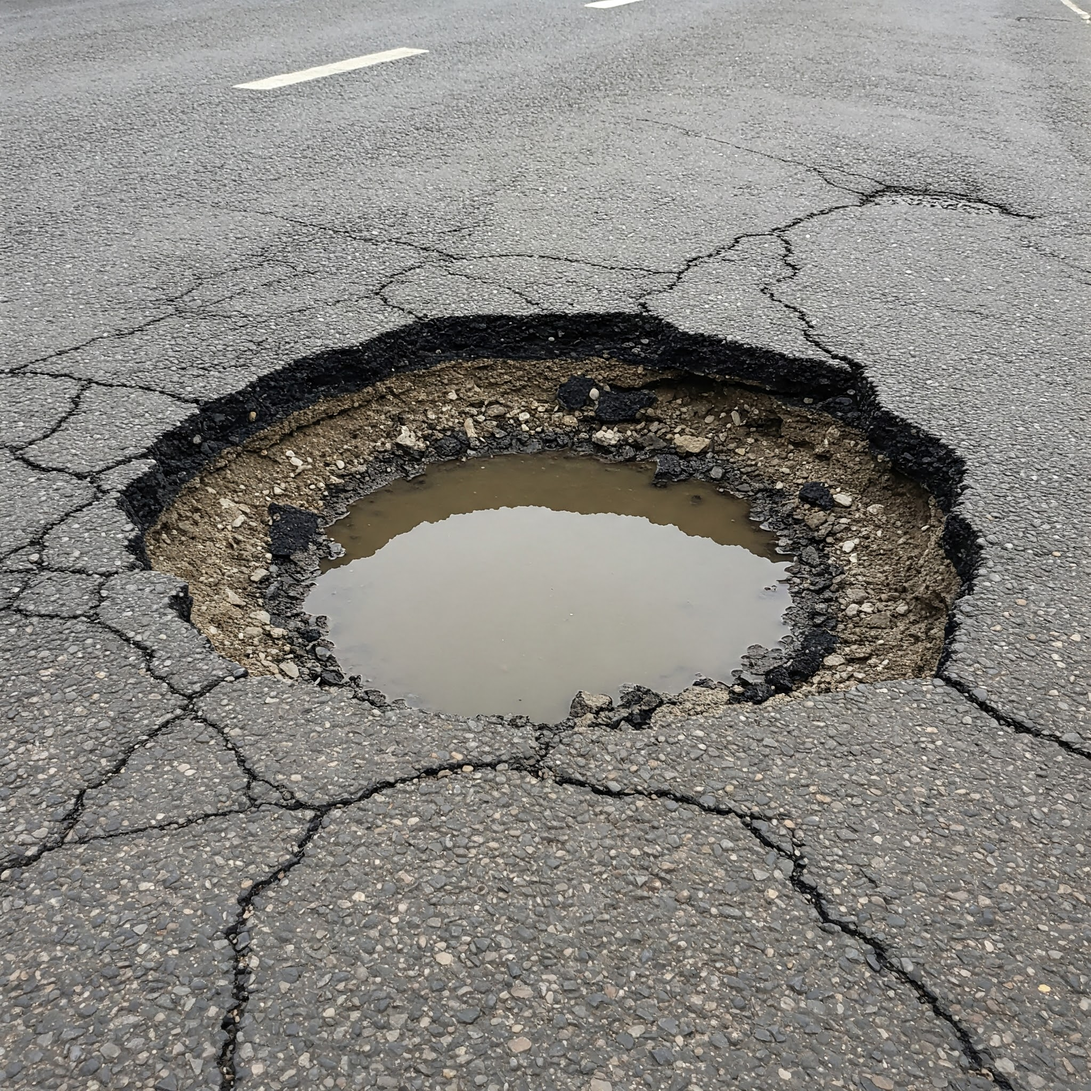Hole_in_the_road: (105, 306, 1016, 763)
